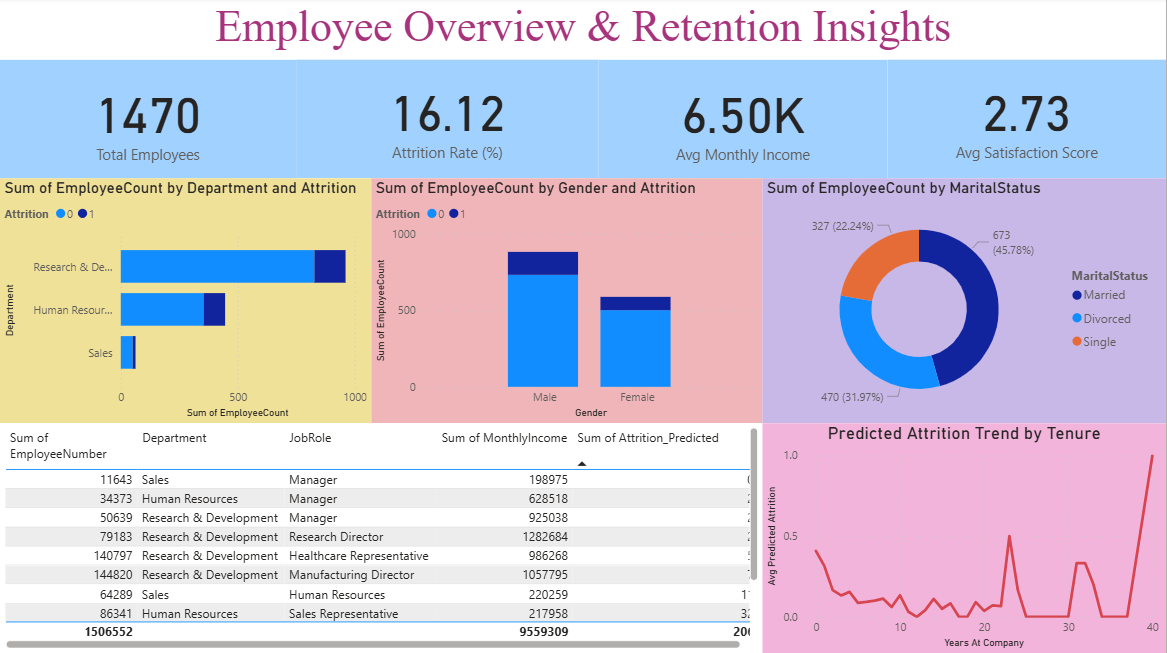

The dashboard page shown, as its layout file describes it:
{"tool":"powerbi","page":{"name":"Page 1","canvas":[1280,720],"ordinal":0},"visuals":[{"type":"card","fields":{"Values":["employee_attrition_results.Total Employees"]},"box":[0,68.6,325.2,130.4],"z":0},{"type":"card","fields":{"Values":["employee_attrition_results.Attrition Rate (%)"]},"box":[325.2,65.9,332.1,133.1],"z":1},{"type":"card","fields":{"Values":["employee_attrition_results.Avg Monthly Income"]},"box":[657.3,68.6,317,130.4],"z":2},{"type":"card","fields":{"Values":["employee_attrition_results.Avg Satisfaction Score"]},"box":[974.3,65.9,306,133.1],"z":3},{"type":"barChart","fields":{"Category":["employee_attrition_results.Department"],"Y":["Sum(employee_attrition_results.EmployeeCount)"],"Series":["employee_attrition_results.Attrition"]},"box":[0,199,407.5,269],"z":4},{"type":"columnChart","fields":{"Category":["employee_attrition_results.Gender"],"Series":["employee_attrition_results.Attrition"],"Y":["Sum(employee_attrition_results.EmployeeCount)"]},"box":[407.5,199,429.5,269],"z":5},{"type":"donutChart","fields":{"Category":["employee_attrition_results.MaritalStatus"],"Y":["Sum(employee_attrition_results.EmployeeCount)"]},"box":[837.1,199,443.2,269],"z":6},{"type":"tableEx","fields":{"Values":["Sum(employee_attrition_results.EmployeeNumber)","employee_attrition_results.Department","employee_attrition_results.JobRole","Sum(employee_attrition_results.MonthlyIncome)","Sum(employee_attrition_results.Attrition_Predicted)"]},"box":[0,467.9,837.1,252.5],"z":7},{"type":"lineChart","title":"Predicted Attrition Trend by Tenure","fields":{"Category":["employee_attrition_results.YearsAtCompany"],"Y":["employee_attrition_results.Avg Predicted Attrition"]},"box":[837.1,467.9,443.2,252.5],"z":8},{"type":"textbox","box":[0,0,1280.3,68.6],"z":9}]}

Visuals, with their boxes in screenshot pixels (x1, y1, x2, y2), scaled from the page's 1280x720 canvas onto the 1167x653 screenshot:
card - employee_attrition_results.Total Employees: [left=0, top=62, right=296, bottom=180]
card - employee_attrition_results.Attrition Rate (%): [left=296, top=60, right=599, bottom=180]
card - employee_attrition_results.Avg Monthly Income: [left=599, top=62, right=888, bottom=180]
card - employee_attrition_results.Avg Satisfaction Score: [left=888, top=60, right=1166, bottom=180]
barChart - employee_attrition_results.Department x Sum(employee_attrition_results.EmployeeCount): [left=0, top=180, right=372, bottom=424]
columnChart - employee_attrition_results.Gender x employee_attrition_results.Attrition: [left=372, top=180, right=763, bottom=424]
donutChart - employee_attrition_results.MaritalStatus x Sum(employee_attrition_results.EmployeeCount): [left=763, top=180, right=1166, bottom=424]
tableEx - Sum(employee_attrition_results.EmployeeNumber) x employee_attrition_results.Department: [left=0, top=424, right=763, bottom=652]
"Predicted Attrition Trend by Tenure" lineChart: [left=763, top=424, right=1166, bottom=652]
textbox: [left=0, top=0, right=1166, bottom=62]
